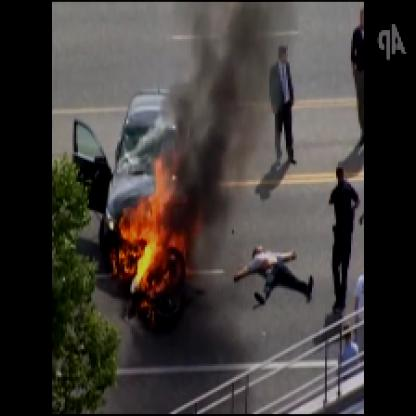Fire: (104, 146, 204, 318)
Smoke: (167, 2, 275, 245)
